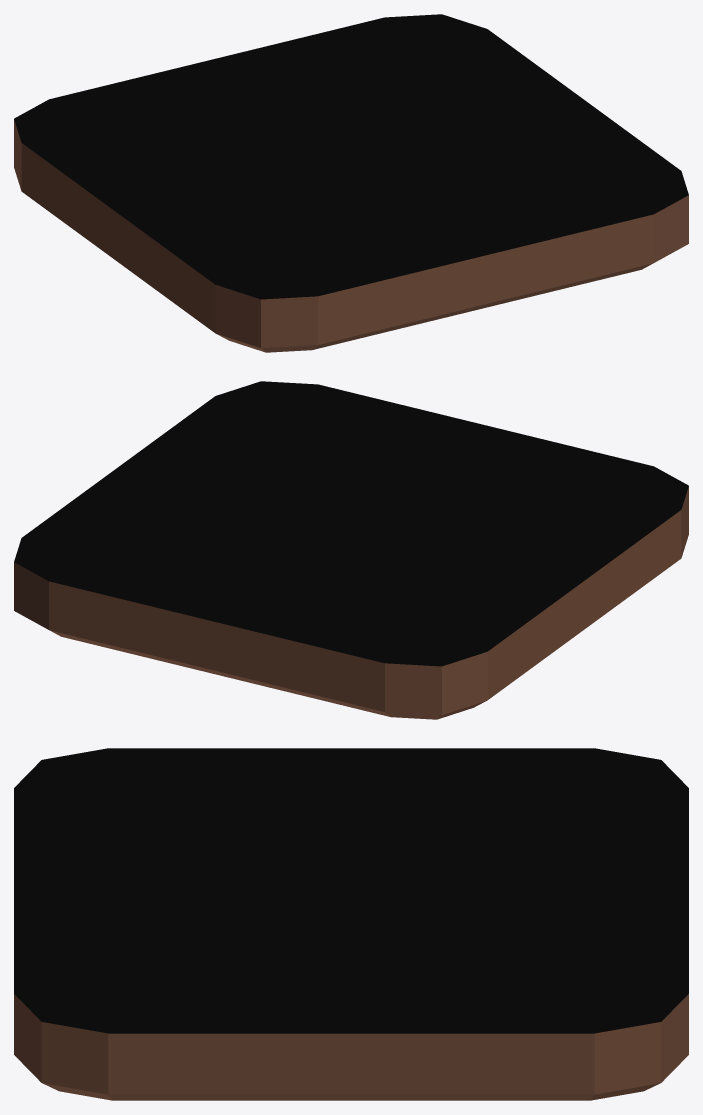
Rendered from Air_Table.fbx.
The picture shows the model from 3 angles, top to bottom: view 1: azimuth 30°, elevation 25°; view 2: azimuth 150°, elevation 25°; view 3: azimuth 270°, elevation 25°; orthographic projection. The views are drawn at different scales.
Visible parts, largest first — view 1: Air_Table; view 2: Air_Table; view 3: Air_Table.
Boxes of the visible parts, x1,y1,x2,y2 form: Air_Table: [14, 14, 688, 352]; Air_Table: [14, 381, 688, 719]; Air_Table: [14, 748, 688, 1100].
Bounding box in the file's own units: 1 × 0.1257 × 1.
